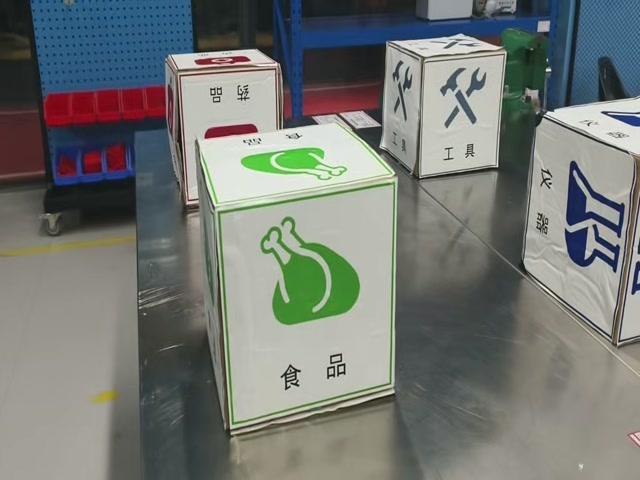Cube_food: (194, 120, 395, 218)
Cube_ins: (535, 98, 637, 156)
Cube_medicine: (164, 49, 280, 76)
Cube_tool: (386, 37, 503, 65)
